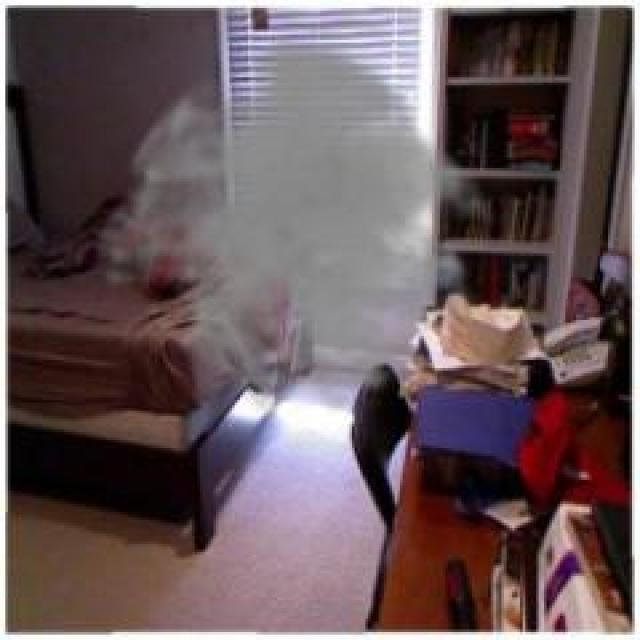smoke: (88, 30, 507, 414)
